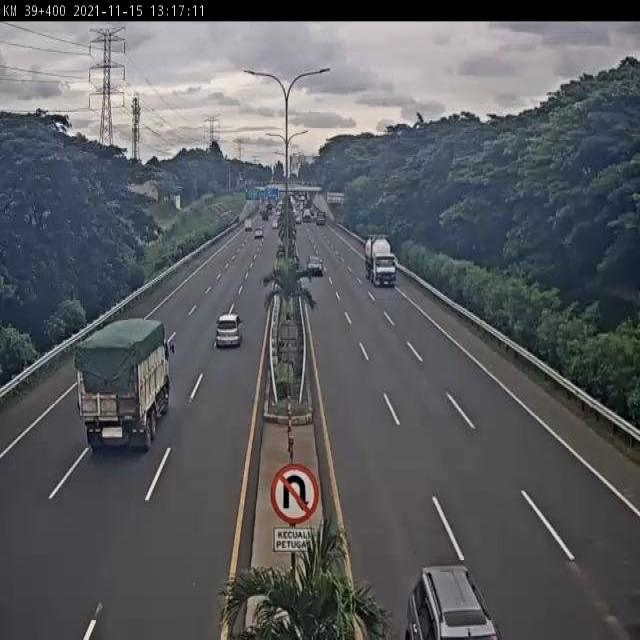Car: (214, 312, 244, 350), (304, 257, 326, 278)
Truck: (73, 314, 174, 450), (362, 232, 400, 286)
